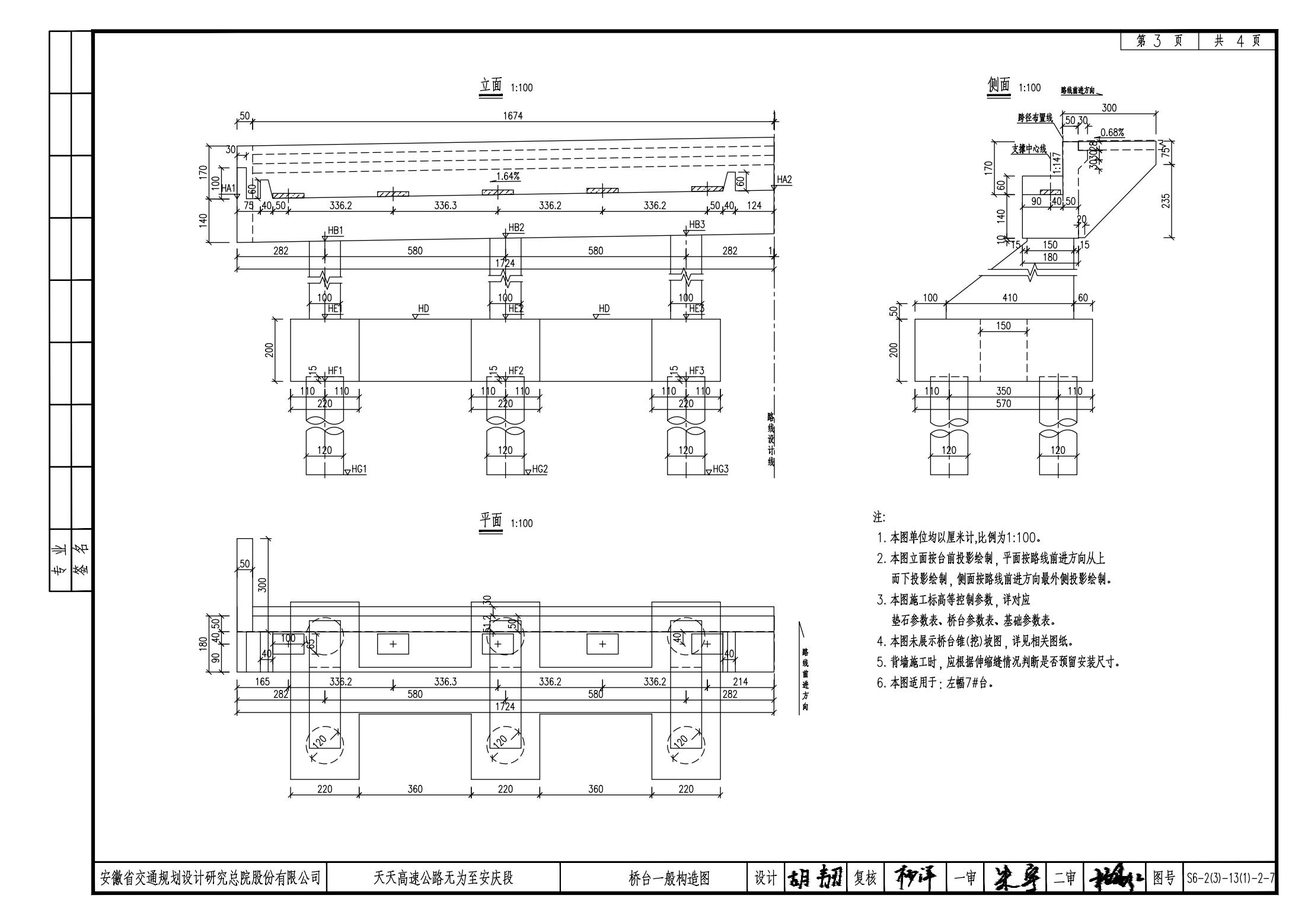D1: (483, 289, 528, 308), (304, 289, 347, 308), (665, 289, 708, 307)
D2: (480, 440, 531, 462), (299, 440, 350, 462), (661, 440, 712, 461)
L1: (395, 232, 436, 264), (578, 234, 615, 264)
